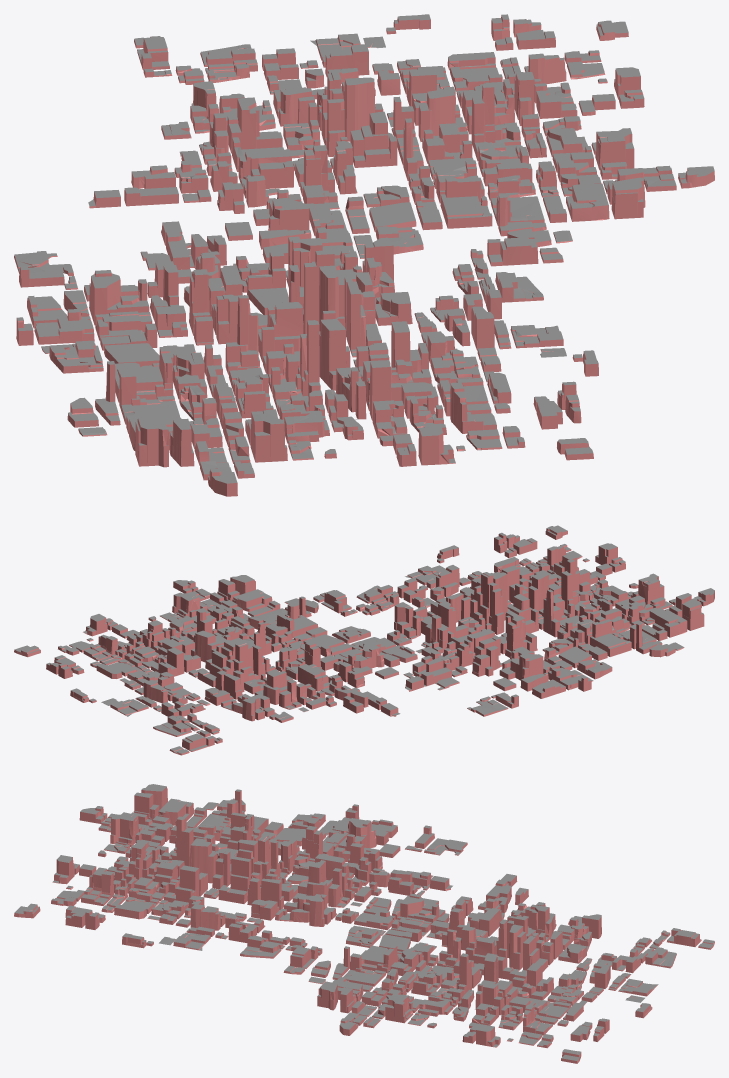
Rendered from OOBBuildings_Combined_05.gltf.
The picture shows the model from 3 angles, top to bottom: view 1: azimuth 30°, elevation 25°; view 2: azimuth 150°, elevation 25°; view 3: azimuth 270°, elevation 25°; orthographic projection. The views are drawn at different scales.
Parts seen in each view (by area): view 1: OOBBuildings_Combined_05; view 2: OOBBuildings_Combined_05; view 3: OOBBuildings_Combined_05.
Boxes of the visible parts, x1=… form: OOBBuildings_Combined_05: x1=14, y1=14, x2=714, y2=496; OOBBuildings_Combined_05: x1=14, y1=525, x2=714, y2=755; OOBBuildings_Combined_05: x1=14, y1=784, x2=714, y2=1063.
Size of the model in its own units: 5897 by 570 by 6695.
